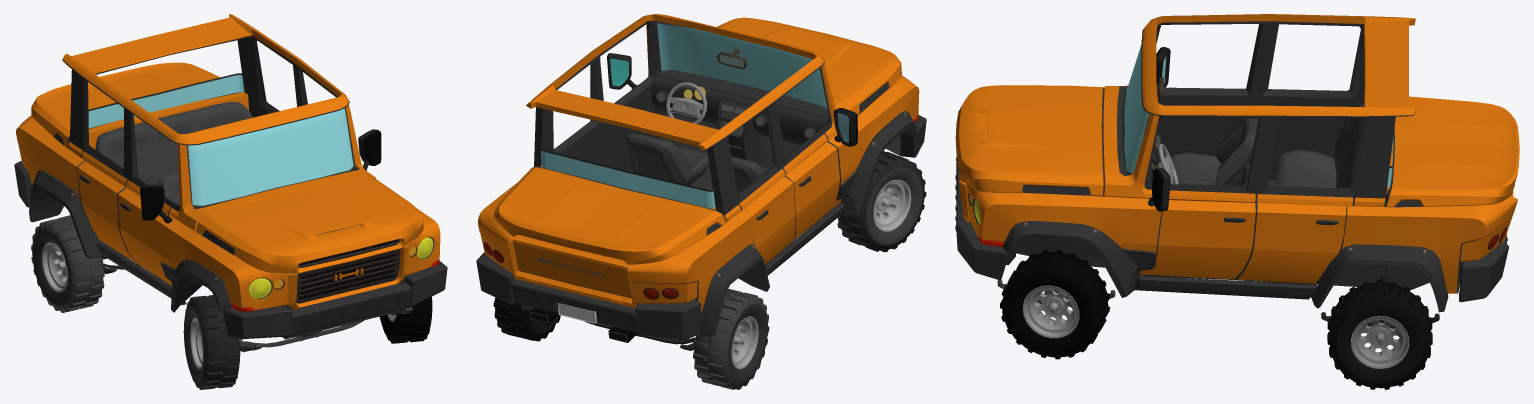
File: shwcar2.gltf
The picture shows the model from 3 angles, left to right: view 1: azimuth 30°, elevation 25°; view 2: azimuth 150°, elevation 25°; view 3: azimuth 270°, elevation 25°; orthographic projection. The views are drawn at different scales.
Parts seen in each view (by area): view 1: node_id394, node_id402, node_id410, node_id434, node_id404, node_id391, node_id384, node_id370, node_id380, node_id382, node_id360, node_id387 (+5 smaller); view 2: node_id394, node_id402, node_id410, node_id434, node_id384, node_id391, node_id387, node_id389, node_id380, node_id377, node_id382, node_id356 (+7 smaller); view 3: node_id394, node_id402, node_id434, node_id370, node_id377, node_id373, node_id366, node_id375, node_id368, node_id410, node_id408, node_id396.
Part boxes in pixels (box(x1,y1,x2,y2)): node_id394: box(16, 14, 440, 310); node_id402: box(14, 36, 447, 339); node_id410: box(88, 75, 353, 205); node_id434: box(95, 102, 252, 205); node_id404: box(296, 239, 401, 303); node_id391: box(185, 295, 240, 389); node_id384: box(31, 215, 104, 312); node_id370: box(379, 296, 432, 343); node_id380: box(32, 230, 71, 305); node_id382: box(41, 242, 67, 292); node_id360: box(239, 307, 412, 352); node_id387: box(183, 305, 204, 382); node_id394: box(478, 14, 919, 314); node_id402: box(476, 21, 926, 340); node_id410: box(541, 23, 827, 208); node_id434: box(625, 132, 770, 193); node_id384: box(693, 289, 769, 389); node_id391: box(837, 151, 926, 252); node_id387: box(866, 167, 922, 245); node_id389: box(873, 179, 911, 231); node_id380: box(727, 304, 767, 382); node_id377: box(493, 297, 560, 341); node_id382: box(731, 316, 758, 368); node_id356: box(666, 82, 707, 124); node_id394: box(955, 14, 1519, 293); node_id402: box(955, 21, 1509, 312); node_id434: box(1170, 103, 1363, 188); node_id370: box(1000, 249, 1110, 359); node_id377: box(1327, 280, 1432, 389); node_id373: box(1336, 304, 1423, 383); node_id366: box(1008, 274, 1092, 352); node_id375: box(1351, 315, 1409, 369); node_id368: box(1022, 285, 1079, 338); node_id410: box(1124, 45, 1393, 187); node_id408: box(979, 191, 1429, 290); node_id396: box(1141, 29, 1506, 249).
Size of the model in its own units: 0.512 by 0.4903 by 0.9271.
45 materials, 8 textured.
